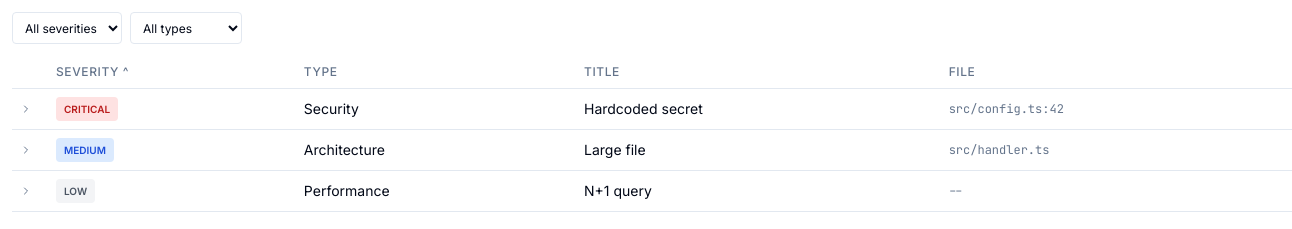
Test: FindingsTable › filters by type
Select "performance" in the 2nd dropdown at (186, 28), box [130, 12, 242, 44]
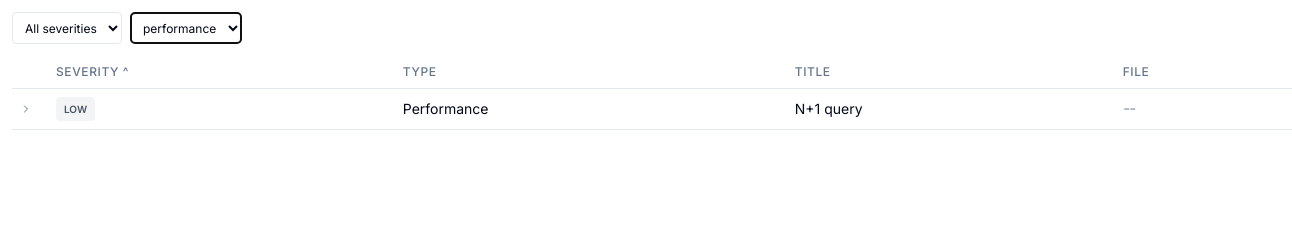
Expected: the text "N+1 query" is shown, [783, 88, 1111, 130]
Expected: the text "Hardcoded secret" is gone
